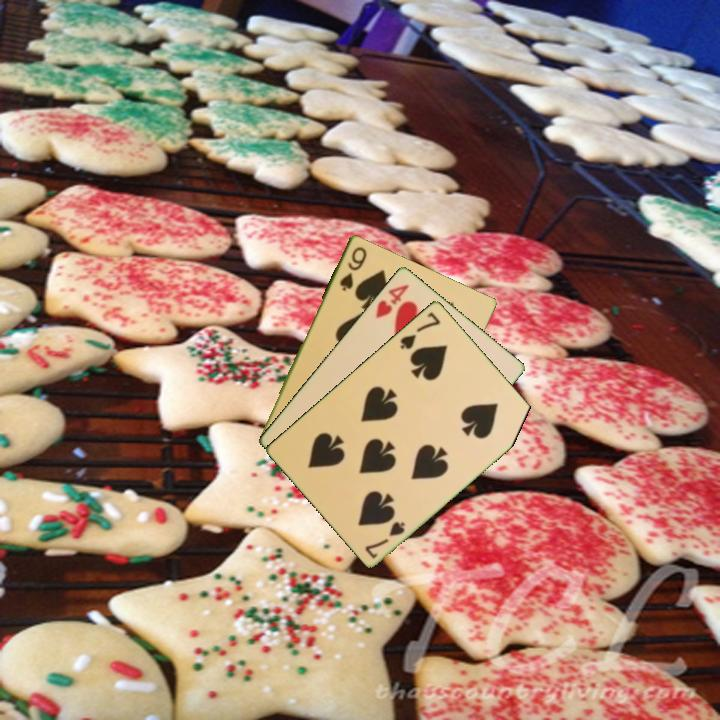4h: (372, 280, 412, 321)
7s: (396, 308, 443, 352), (361, 517, 408, 561)
9s: (336, 243, 370, 294)
